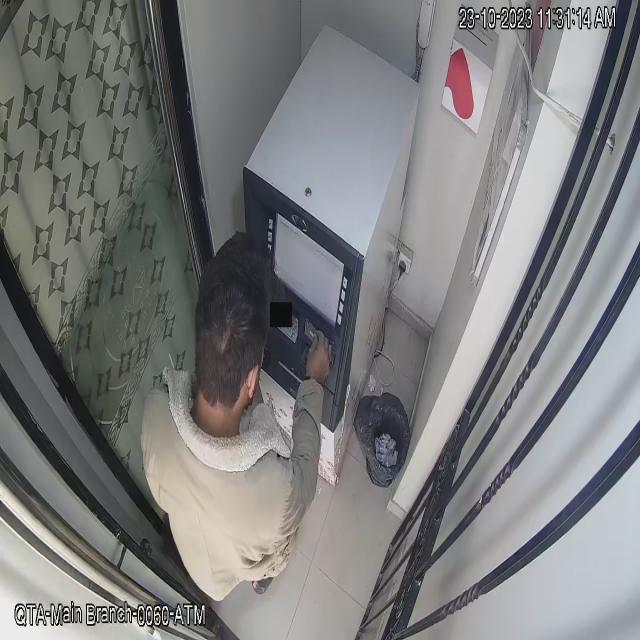atm-card: (301, 312, 321, 351)
